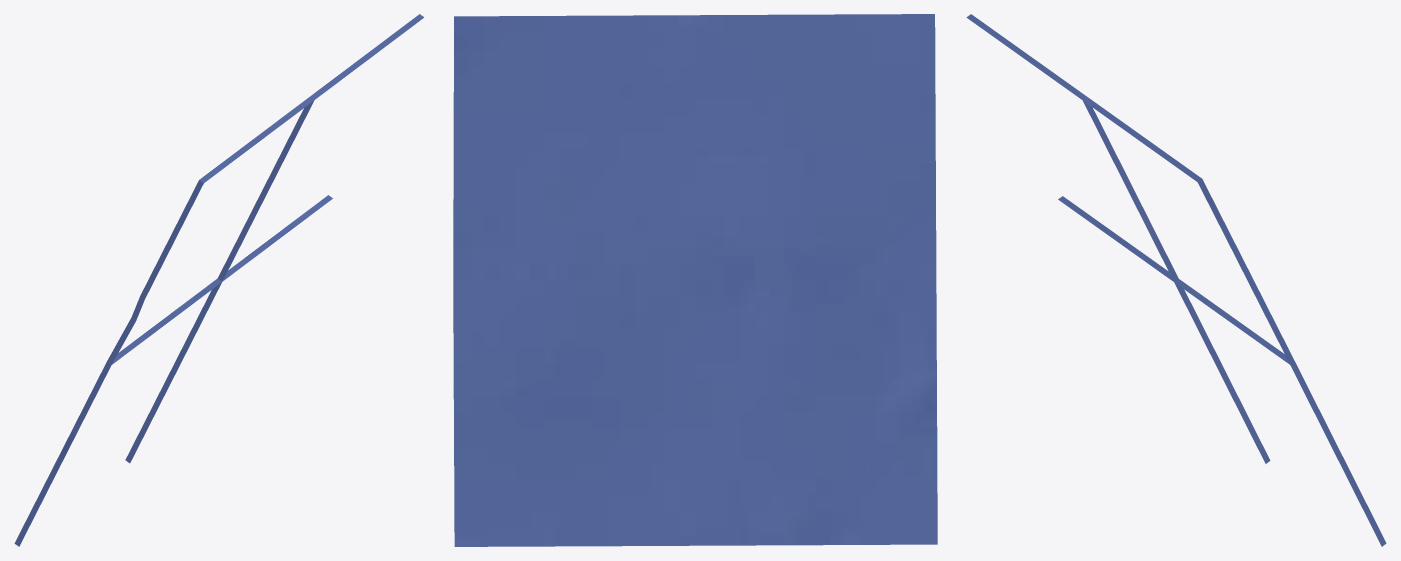
3 views of the same model, side by side, from view 1: azimuth 30°, elevation 25°; view 2: azimuth 150°, elevation 25°; view 3: azimuth 270°, elevation 25° (orthographic). The views are drawn at different scales.
Bounding box in the file's own units: 19658 × 17837 × 16478.
1 material, 1 textured.
